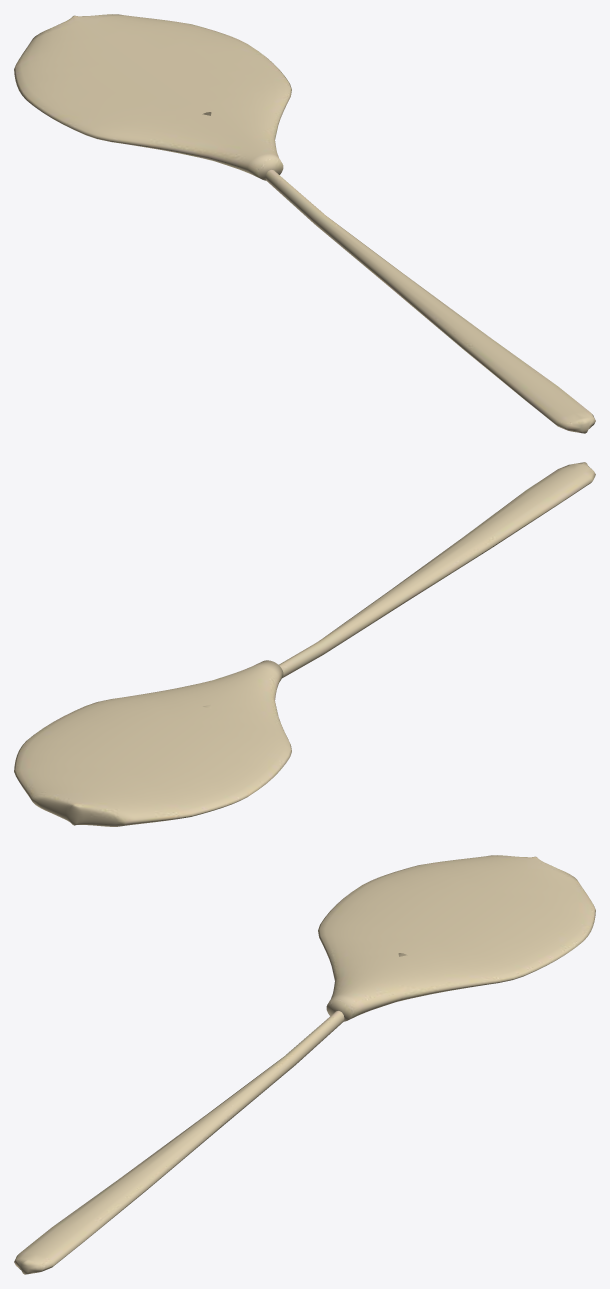
3 renders of one model, top to bottom at view 1: azimuth 30°, elevation 25°; view 2: azimuth 150°, elevation 25°; view 3: azimuth 330°, elevation 25°, orthographic.
Visible parts, largest first — view 1: body; view 2: body; view 3: body.
Part boxes in pixels (left/top/right/bottom): body: left=14, top=14, right=595, bottom=433; body: left=14, top=462, right=595, bottom=826; body: left=14, top=855, right=595, bottom=1274.
Size of the model in its own units: 0.058 by 0.011 by 0.2283.
1 material, 1 textured.
